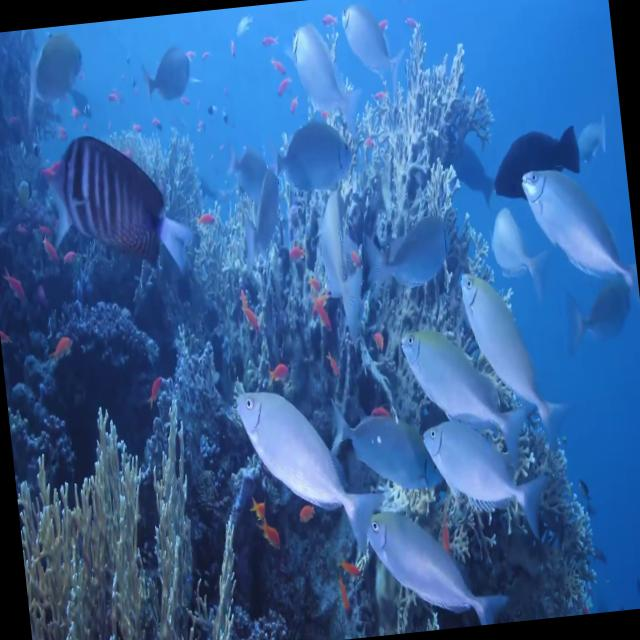fish: (44, 127, 195, 285), (235, 377, 374, 548), (459, 261, 568, 452), (400, 318, 532, 461), (365, 499, 497, 636), (519, 157, 636, 307), (421, 411, 546, 538), (333, 395, 448, 494), (488, 118, 582, 201), (337, 0, 409, 97), (274, 116, 358, 192), (287, 20, 353, 116), (21, 34, 88, 126), (138, 46, 194, 108)
